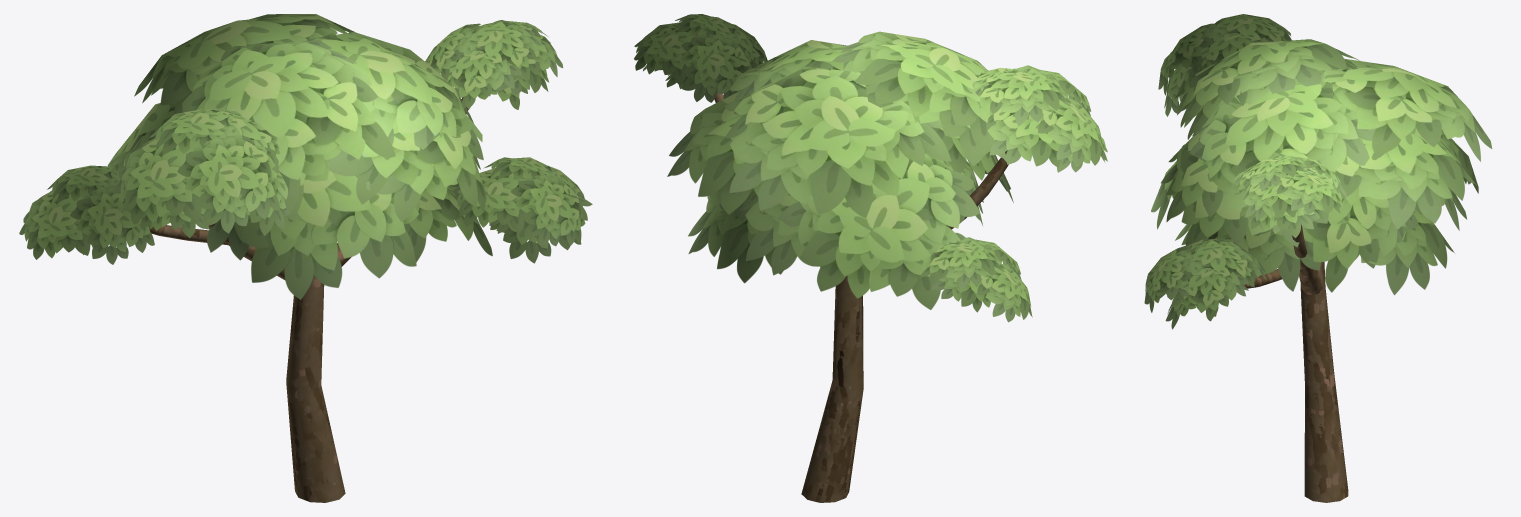
File: street-tree-2.glb
3 renders of one model, left to right at view 1: azimuth 30°, elevation 25°; view 2: azimuth 150°, elevation 25°; view 3: azimuth 270°, elevation 25°, orthographic. The views are drawn at different scales.
Parts seen in each view (by area): view 1: Tree_5; view 2: Tree_5; view 3: Tree_5.
Part boxes in pixels (x1,y1,x2,y2): Tree_5: [19, 14, 592, 502]; Tree_5: [634, 14, 1107, 502]; Tree_5: [1144, 14, 1492, 502].
Size of the model in its own units: 6.74 by 6.36 by 4.98.
Materials: 2 (2 with a texture image).
